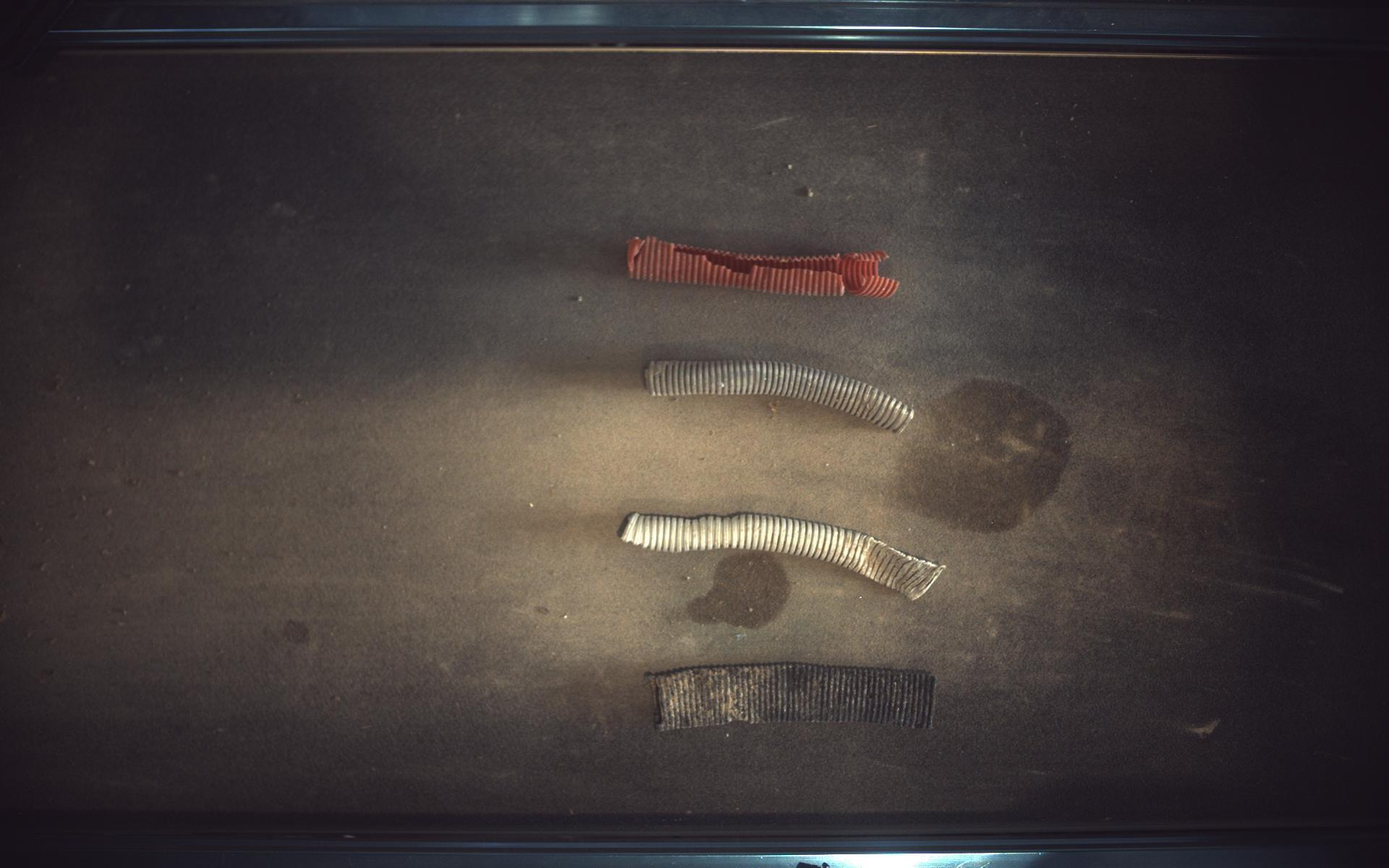pipes: (620, 513, 947, 600), (647, 663, 938, 732), (645, 359, 916, 433), (629, 235, 901, 297)
